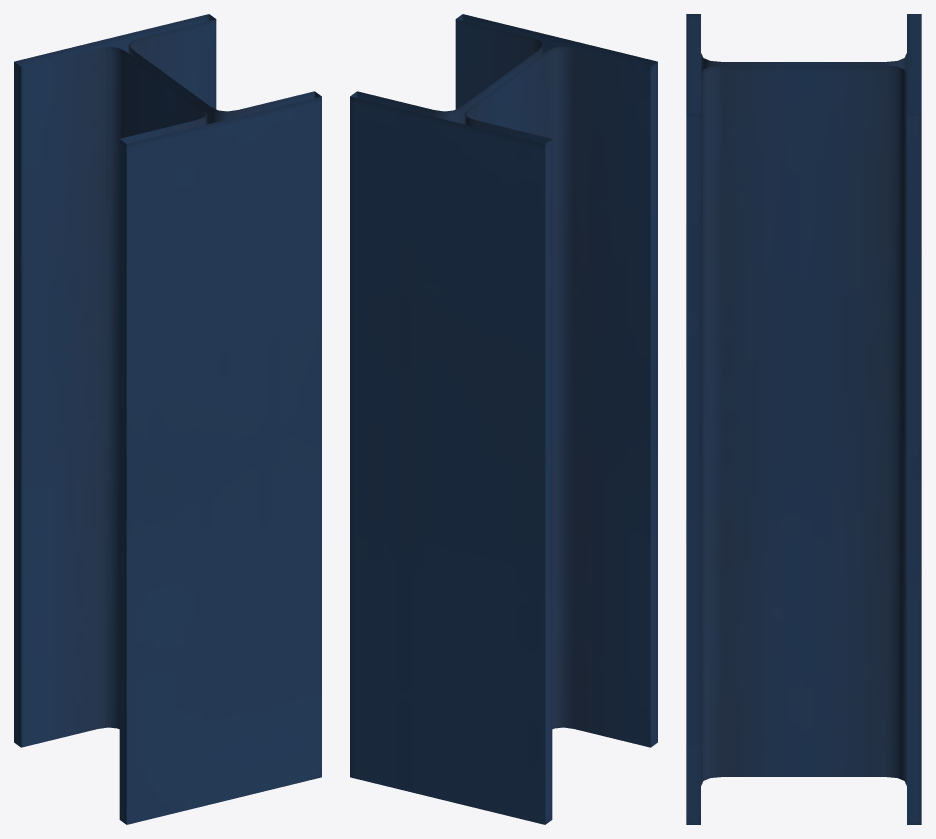
The model's file is Column_Shaft.fbx.
The picture shows the model from 3 angles, left to right: view 1: azimuth 30°, elevation 25°; view 2: azimuth 150°, elevation 25°; view 3: azimuth 270°, elevation 25°; orthographic projection. The views are drawn at different scales.
Visible parts, largest first — view 1: Column_Shaft_LOD0; view 2: Column_Shaft_LOD0; view 3: Column_Shaft_LOD0.
Part boxes in pixels (<box>): Column_Shaft_LOD0: <box>14,14,321,824</box>; Column_Shaft_LOD0: <box>350,14,657,824</box>; Column_Shaft_LOD0: <box>686,14,921,824</box>.
Size of the model in its own units: 0.3 by 1 by 0.3.
Materials: 1 (1 with a texture image).
